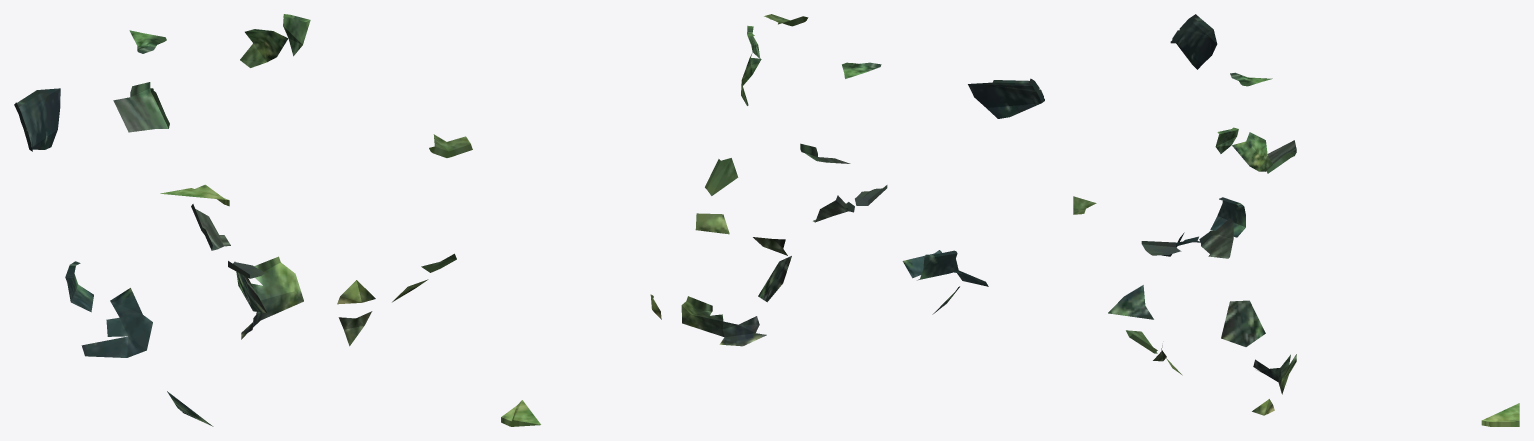
The model's file is BuildingMesh-00056.gltf.
3 renders of one model, left to right at view 1: azimuth 30°, elevation 25°; view 2: azimuth 150°, elevation 25°; view 3: azimuth 270°, elevation 25°, orthographic. The views are drawn at different scales.
Parts seen in each view (by area): view 1: BuildingMesh-00056; view 2: BuildingMesh-00056; view 3: BuildingMesh-00056.
Boxes of the visible parts, x1,y1,x2,y2 form: BuildingMesh-00056: [14, 14, 472, 426]; BuildingMesh-00056: [501, 14, 1044, 426]; BuildingMesh-00056: [1073, 14, 1519, 426].
Size of the model in its own units: 0.7765 by 0.6353 by 0.9725.
Materials: 1 (1 with a texture image).
